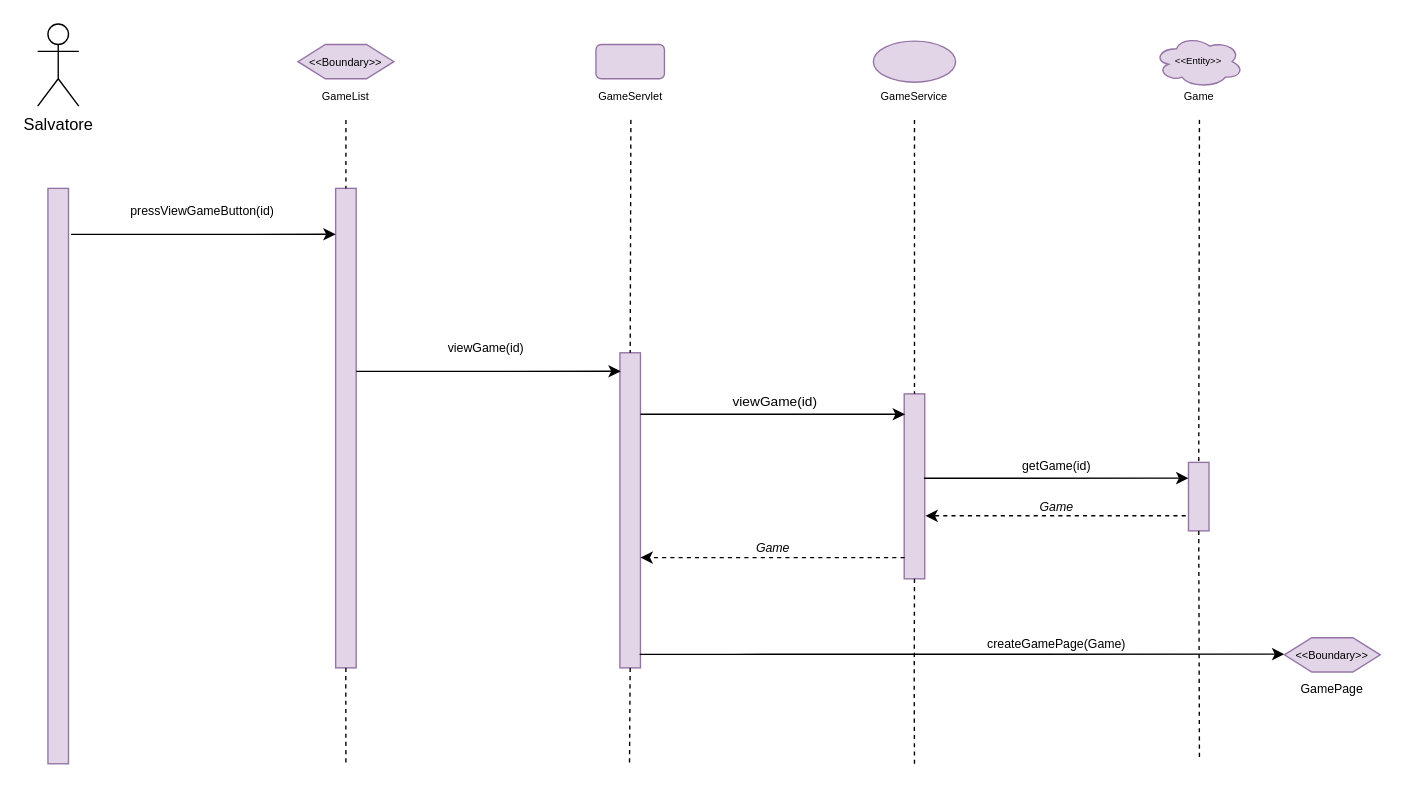
This 1404x789 diagram has some shape labels left out. Each missing label, with the centre of its shape:
"<<Control>>" belongs at point 629,61.
"<<Model>>" belongs at point 914,61.
